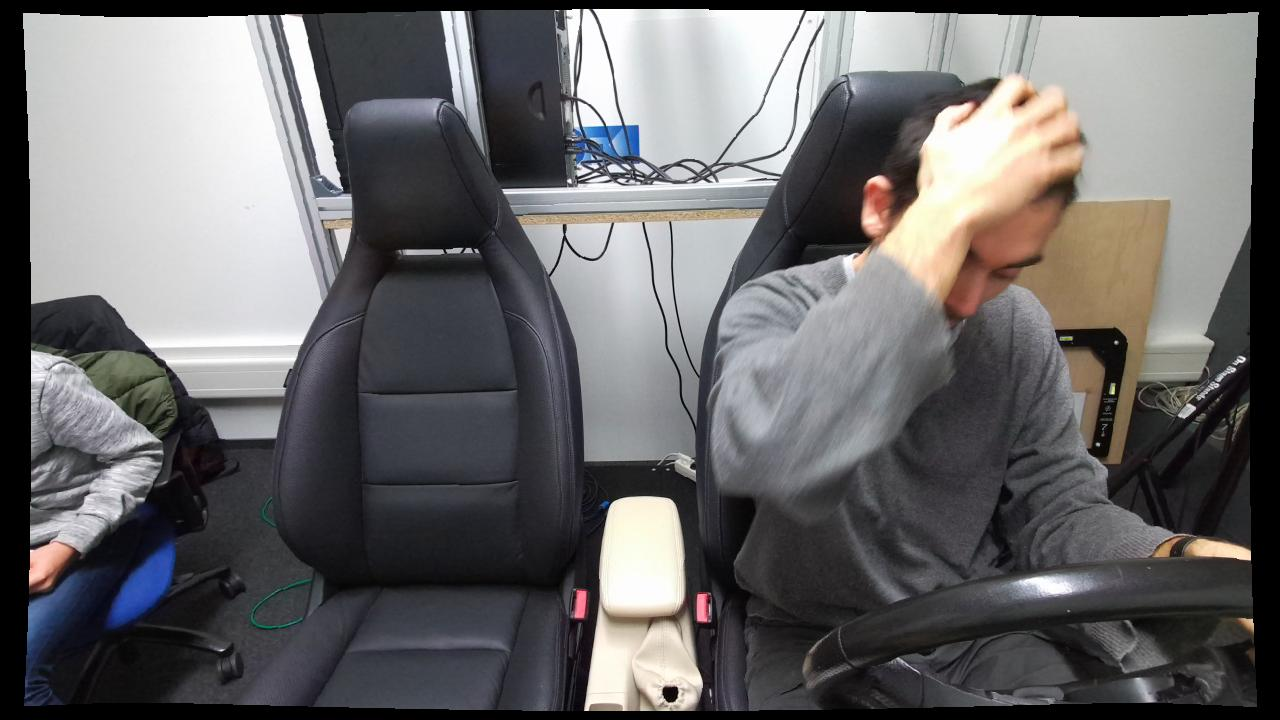Distracted: (701, 63, 1115, 707)
